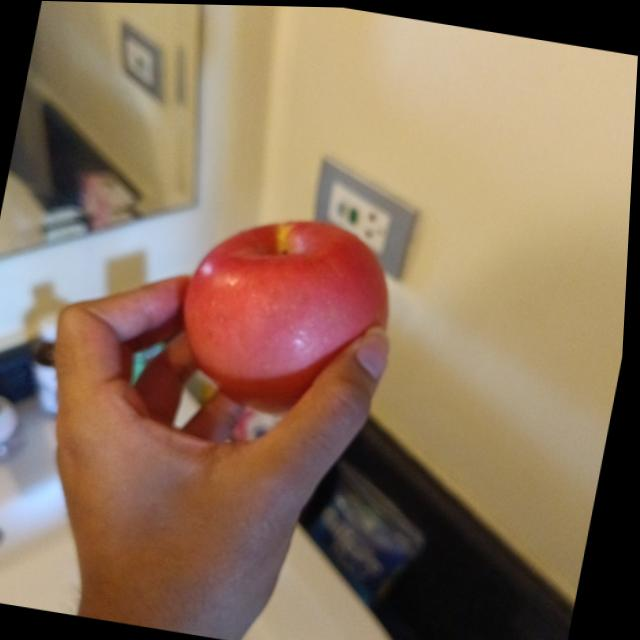apple: (171, 202, 410, 421)
